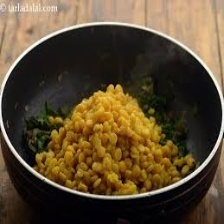sabzi: (21, 74, 201, 196)
